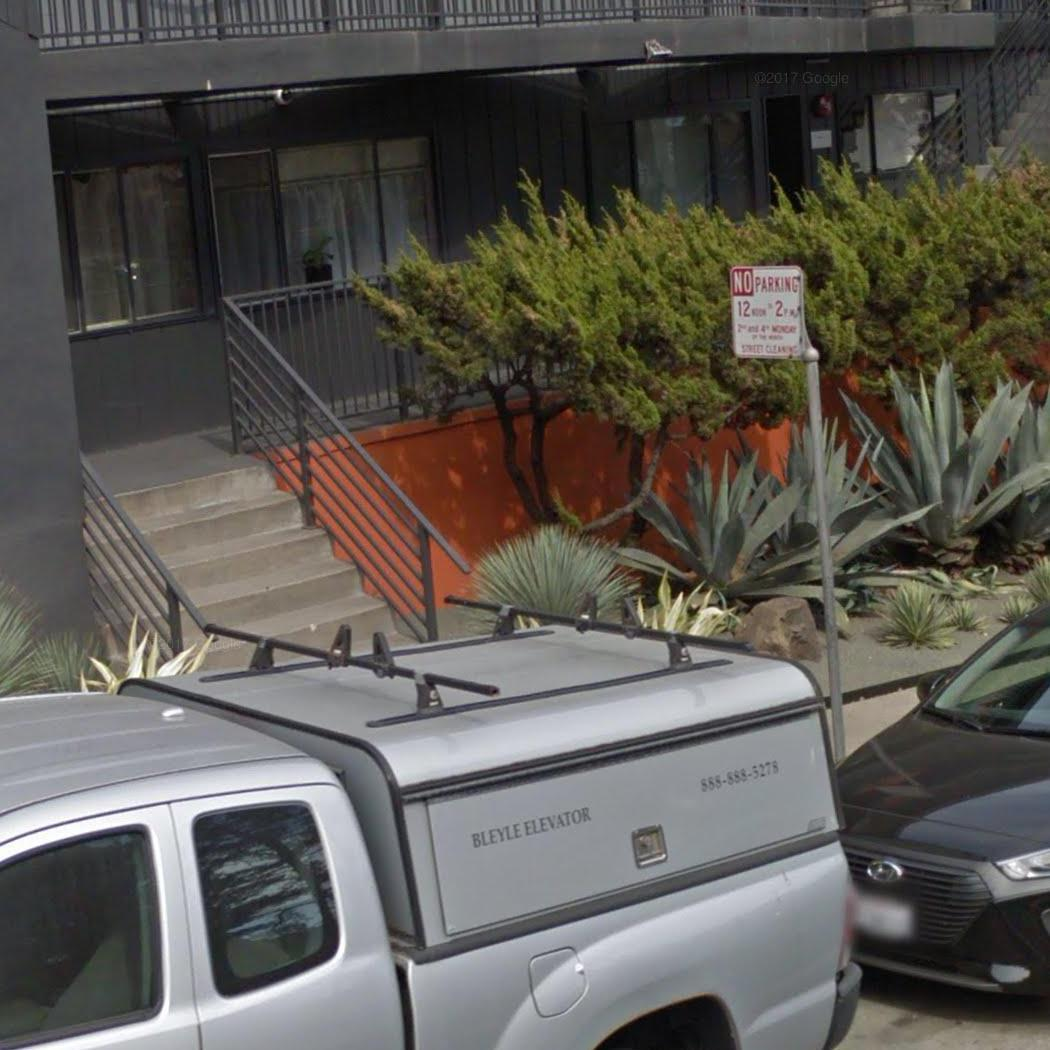No Parking: (727, 262, 807, 362)
